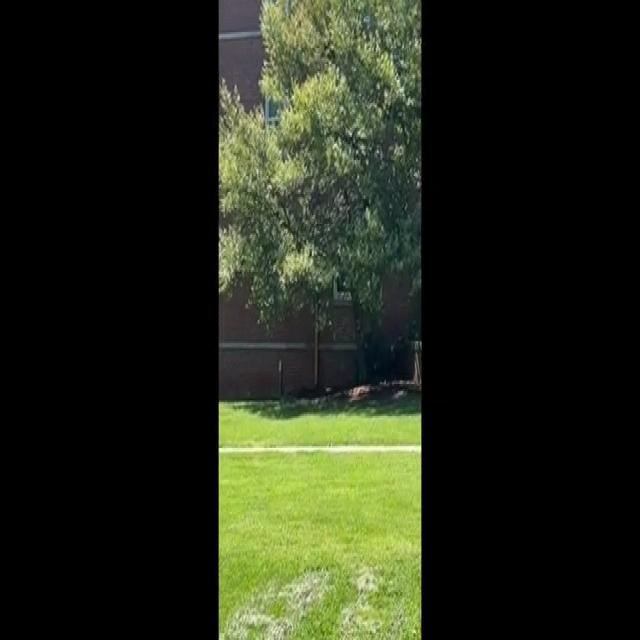drone: (322, 379, 334, 399)
